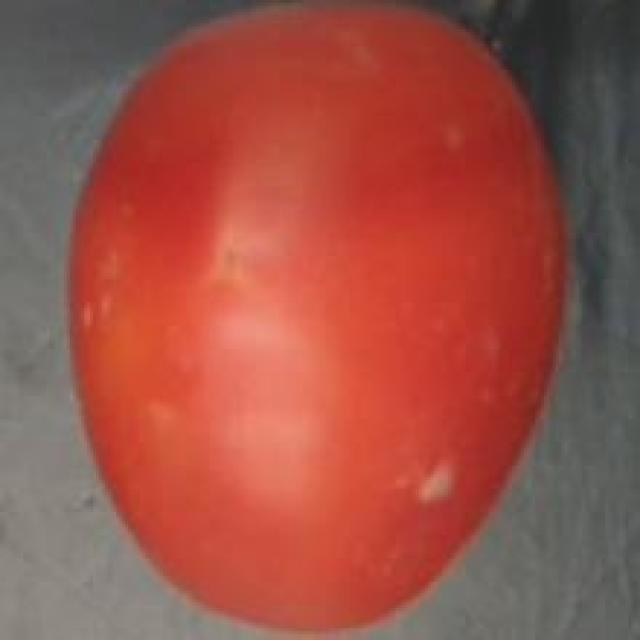overripe tomato: (55, 6, 582, 640)
